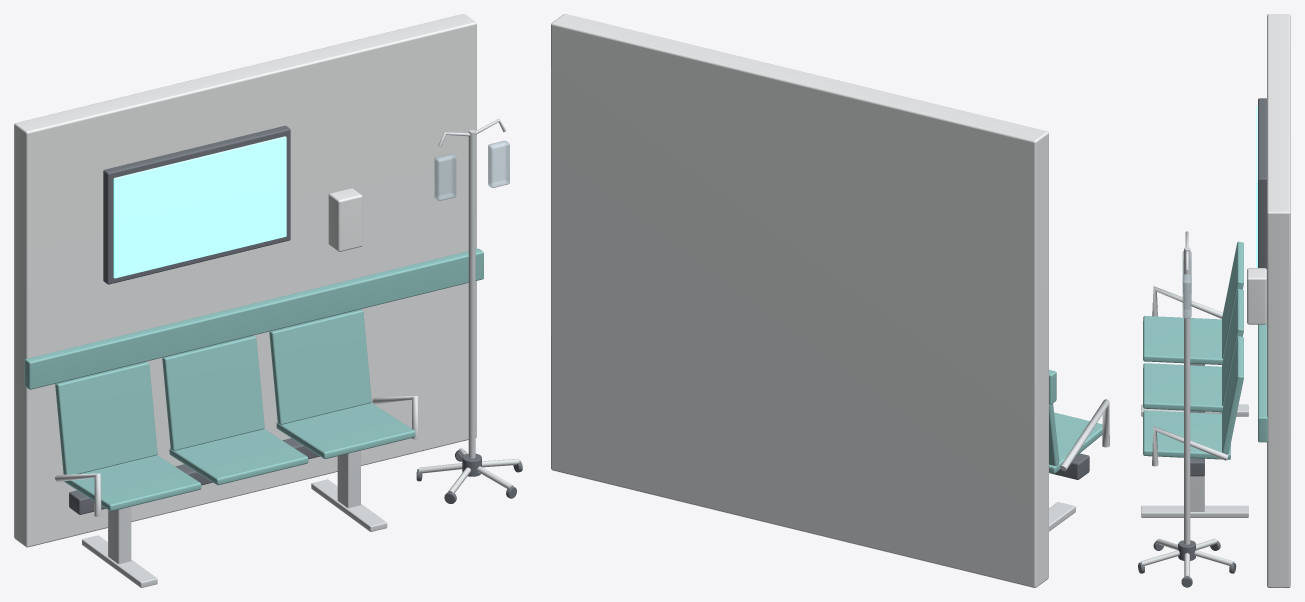
File: hospital_corridor_station_v10.glb
3 renders of one model, left to right at view 1: azimuth 30°, elevation 25°; view 2: azimuth 150°, elevation 25°; view 3: azimuth 270°, elevation 25°, orthographic. The views are drawn at different scales.
Visible parts, largest first — view 1: V10_HospitalCorridorWall, V10_QueueDisplayScreen, V10_HospitalWallBumperRail, V10_WardSeatBack.001, V10_WardSeatBack.002, V10_WardSeatBack, V10_QueueDisplayBezel, V10_WardSeatPan.002, V10_WardSeatPan.001, V10_WardSeatPan, V10_IvTelescopicMast, V10_SanitizerDispenser (+7 smaller); view 2: V10_HospitalCorridorWall, V10_WardSeatPan, V10_BenchArmrestLoop; view 3: V10_HospitalCorridorWall, V10_WardSeatPan.001, V10_WardSeatPan, V10_WardSeatPan.002, V10_IvTelescopicMast, V10_QueueDisplayBezel, V10_WardSeatBack.002, V10_BenchFloorFoot.001, V10_SanitizerDispenser, V10_HospitalWallBumperRail, V10_WardSeatBack, V10_WardSeatBack.001 (+10 smaller).
Part boxes in pixels (<box>): V10_HospitalCorridorWall: <box>14,14,476,547</box>; V10_QueueDisplayScreen: <box>113,136,286,278</box>; V10_HospitalWallBumperRail: <box>24,248,483,389</box>; V10_WardSeatBack.001: <box>162,335,264,450</box>; V10_WardSeatBack.002: <box>269,309,371,424</box>; V10_WardSeatBack: <box>55,361,157,474</box>; V10_QueueDisplayBezel: <box>103,125,290,284</box>; V10_WardSeatPan.002: <box>276,403,415,458</box>; V10_WardSeatPan.001: <box>169,429,308,485</box>; V10_WardSeatPan: <box>64,455,201,511</box>; V10_IvTelescopicMast: <box>468,129,475,458</box>; V10_SanitizerDispenser: <box>328,188,362,251</box>; V10_HospitalCorridorWall: <box>551,14,1048,587</box>; V10_WardSeatPan: <box>1049,412,1102,473</box>; V10_BenchArmrestLoop: <box>1060,399,1109,471</box>; V10_HospitalCorridorWall: <box>1267,14,1290,587</box>; V10_WardSeatPan.001: <box>1143,363,1223,412</box>; V10_WardSeatPan: <box>1143,316,1223,364</box>; V10_WardSeatPan.002: <box>1143,410,1230,459</box>; V10_IvTelescopicMast: <box>1184,247,1190,544</box>; V10_QueueDisplayBezel: <box>1258,98,1266,269</box>; V10_WardSeatBack.002: <box>1222,336,1243,454</box>; V10_BenchFloorFoot.001: <box>1141,505,1248,517</box>; V10_SanitizerDispenser: <box>1247,268,1266,324</box>; V10_HospitalWallBumperRail: <box>1258,323,1267,442</box>; V10_WardSeatBack: <box>1222,241,1243,358</box>; V10_WardSeatBack.001: <box>1222,289,1243,405</box>.
Bounding box in the file's own units: 2.38 × 2.08 × 0.7658.
